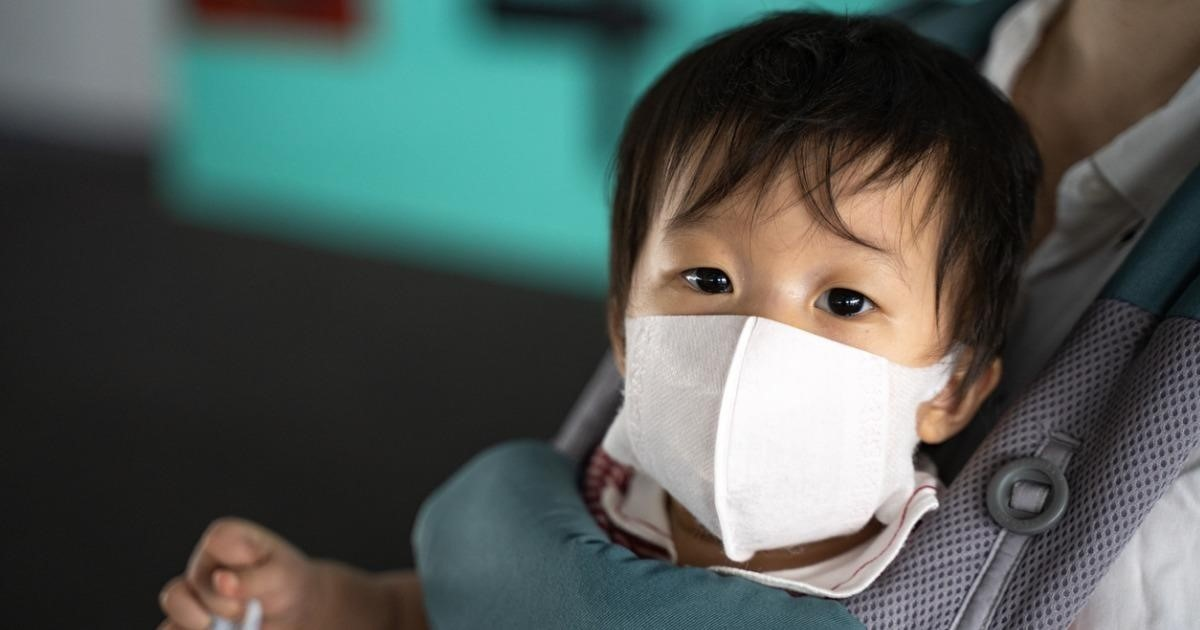face_with_mask: (578, 98, 1006, 582)
